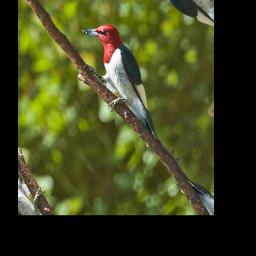Woodpecker: (66, 8, 184, 159)
